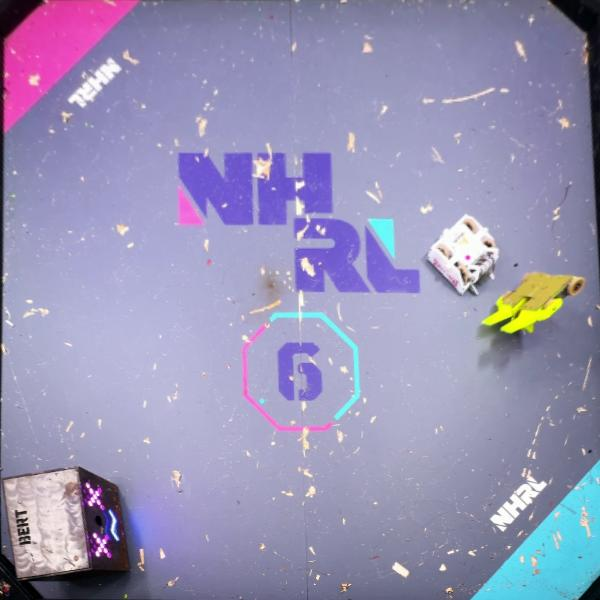housebot: (0, 465, 131, 581)
robot: (479, 269, 585, 334), (425, 213, 501, 297)
